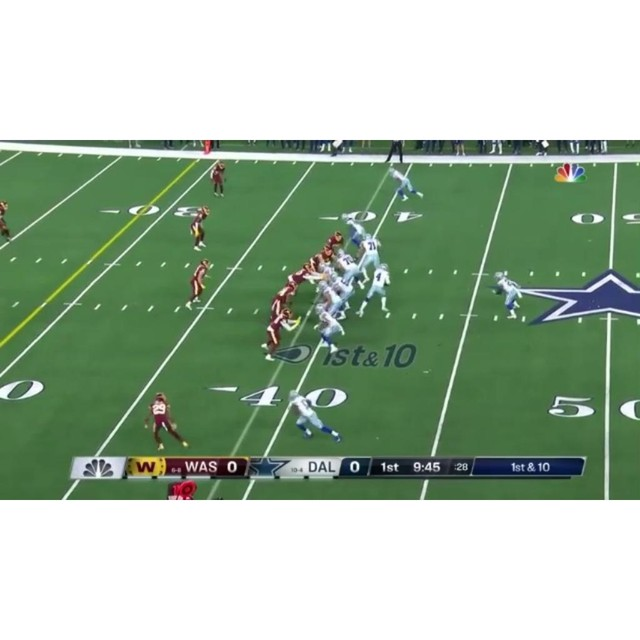american-football-player: (288, 390, 341, 442), (149, 392, 189, 451), (261, 308, 302, 362), (357, 261, 392, 318), (314, 302, 345, 355), (490, 270, 522, 320), (356, 232, 383, 283), (334, 248, 365, 290), (186, 259, 211, 308), (388, 167, 423, 202), (316, 280, 347, 318), (269, 280, 298, 320), (287, 261, 316, 293), (190, 206, 210, 250), (312, 243, 334, 271), (211, 160, 226, 197), (0, 200, 12, 242), (325, 230, 345, 252)
